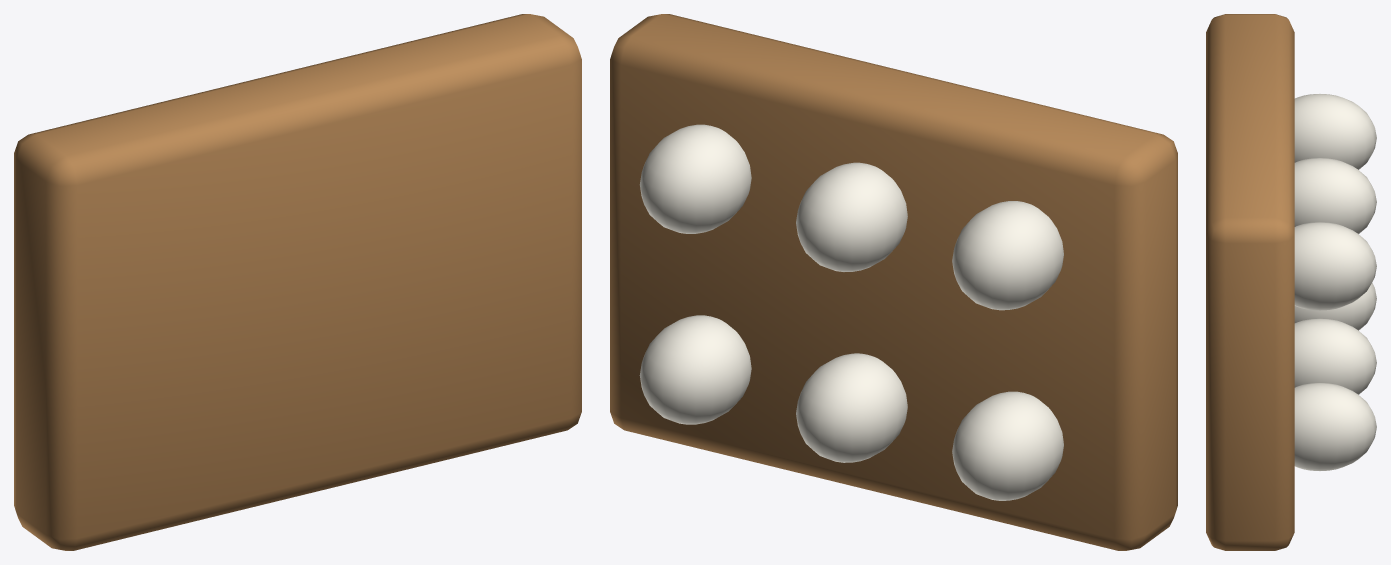
File: egg_output_tray.glb
3 renders of one model, left to right at view 1: azimuth 30°, elevation 25°; view 2: azimuth 150°, elevation 25°; view 3: azimuth 270°, elevation 25°, orthographic. The views are drawn at different scales.
Parts seen in each view (by area): view 1: Tray; view 2: Tray, Egg, Egg.003, Egg.005, Egg.001, Egg.004, Egg.002; view 3: Tray, Egg.005, Egg.004, Egg.003, Egg.002, Egg.001, Egg.
Boxes of the visible parts, box(x1,y1,x2,y2) form: Tray: box(14, 14, 581, 550); Tray: box(610, 14, 1177, 550); Egg: box(952, 391, 1063, 500); Egg.003: box(796, 162, 907, 271); Egg.005: box(639, 124, 751, 233); Egg.001: box(952, 201, 1063, 310); Egg.004: box(639, 315, 751, 424); Egg.002: box(796, 353, 907, 462); Tray: box(1206, 14, 1294, 550); Egg.005: box(1294, 222, 1376, 310); Egg.004: box(1294, 383, 1376, 470); Egg.003: box(1294, 158, 1376, 233); Egg.002: box(1294, 318, 1376, 394); Egg.001: box(1294, 94, 1376, 169); Egg: box(1294, 283, 1376, 330).
Size of the model in its own units: 0.82 by 0.58 by 0.27.
